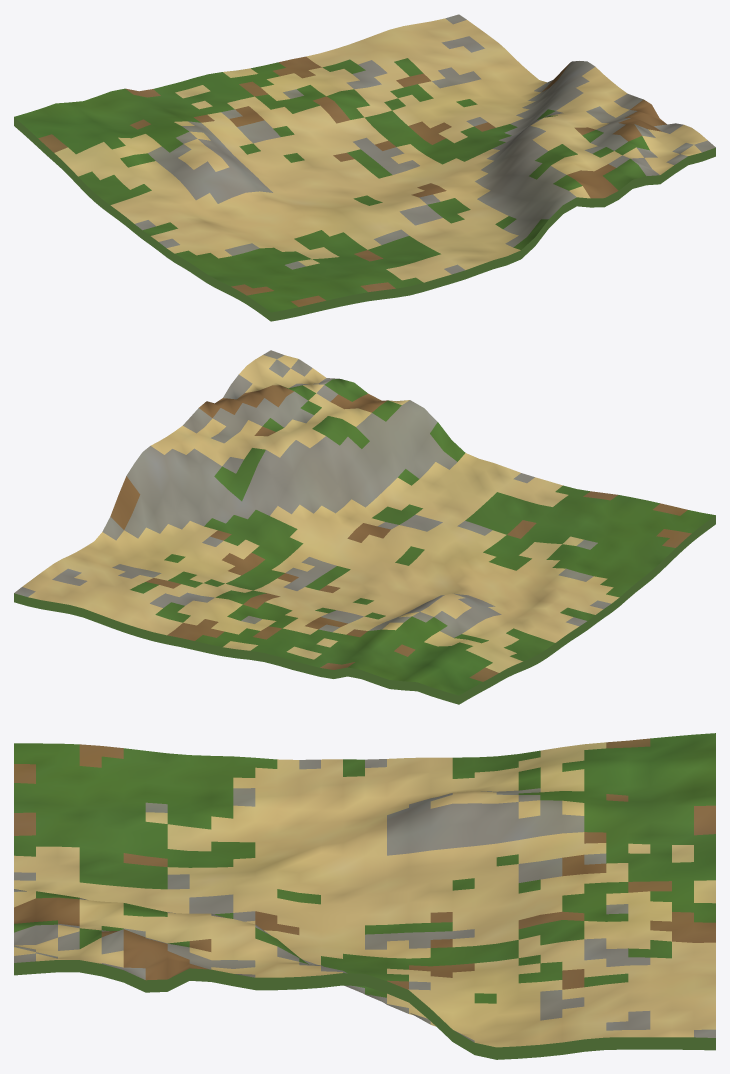
The model's file is chunk_5_6_lod1.glb.
The picture shows the model from 3 angles, top to bottom: view 1: azimuth 30°, elevation 25°; view 2: azimuth 150°, elevation 25°; view 3: azimuth 270°, elevation 25°; orthographic projection. The views are drawn at different scales.
Parts seen in each view (by area): view 1: Surface_Sand, Surface_Grass, Surface_Gravel, Surface_Dirt, Skirt; view 2: Surface_Sand, Surface_Grass, Surface_Gravel, Surface_Dirt, Skirt; view 3: Surface_Sand, Surface_Grass, Surface_Gravel, Surface_Dirt, Skirt.
Part boxes in pixels (x1,y1,x2,y2): Surface_Sand: (54, 18, 707, 282); Surface_Grass: (14, 58, 649, 312); Surface_Gravel: (135, 14, 715, 274); Surface_Dirt: (38, 56, 666, 306); Skirt: (14, 117, 715, 321); Surface_Sand: (22, 355, 619, 672); Surface_Grass: (130, 379, 715, 695); Surface_Gravel: (14, 350, 610, 637); Surface_Dirt: (110, 385, 691, 681); Skirt: (14, 515, 715, 704); Surface_Sand: (14, 742, 715, 1047); Surface_Grass: (14, 733, 715, 1003); Surface_Gravel: (14, 759, 715, 1042); Surface_Dirt: (14, 738, 715, 989); Skirt: (14, 960, 715, 1059).
Bounding box in the file's own units: 256 × 45.1 × 256.
